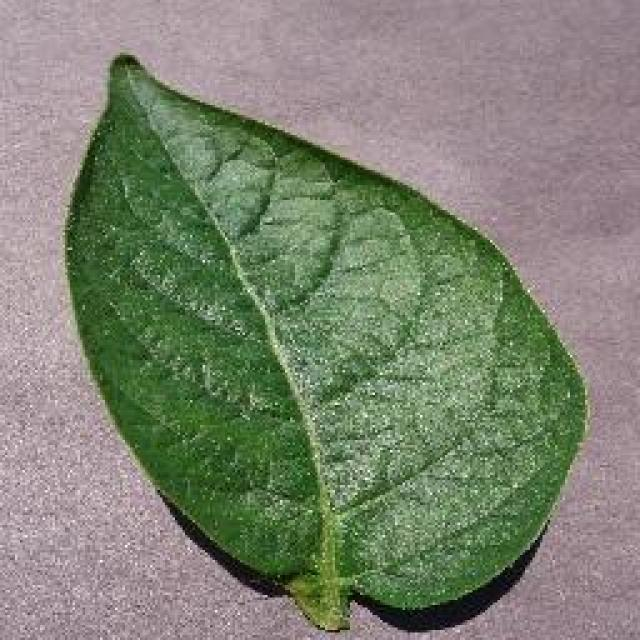Potato___healthy: (63, 51, 591, 630)
